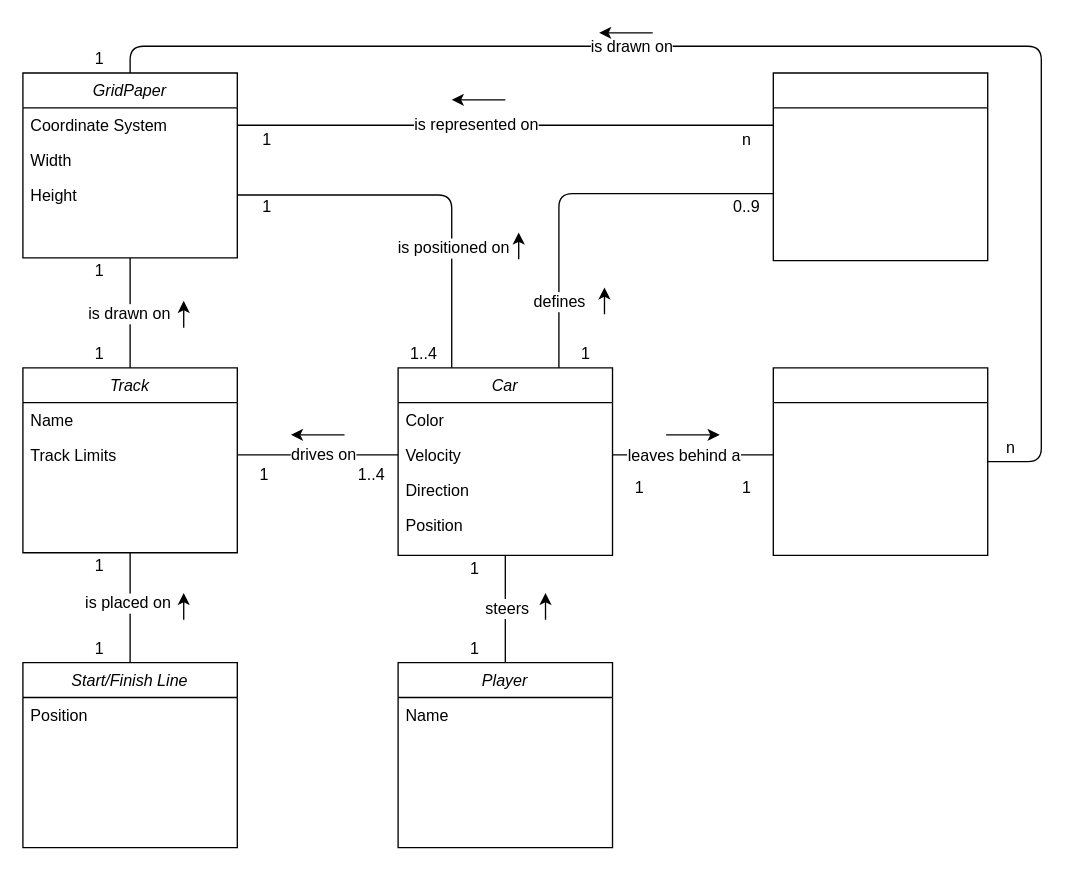
Some shapes in this 1067 by 871 pixel diagram are drawn without their labels. Each missing label, with the centre of its shape:
PossibleTurn: [880,166]
Route: [880,460]
